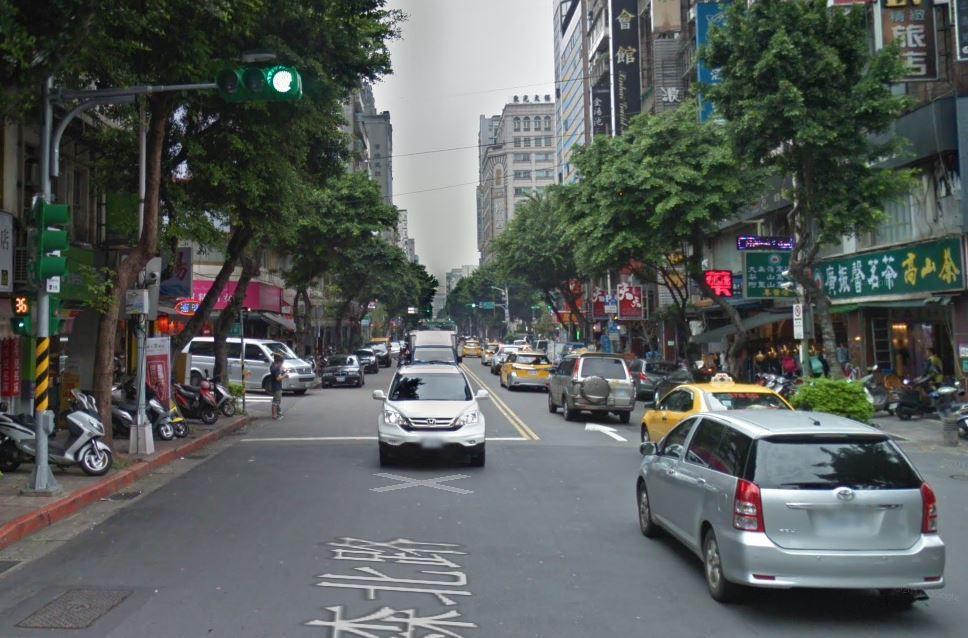green_traffic_light: (212, 61, 303, 103)
